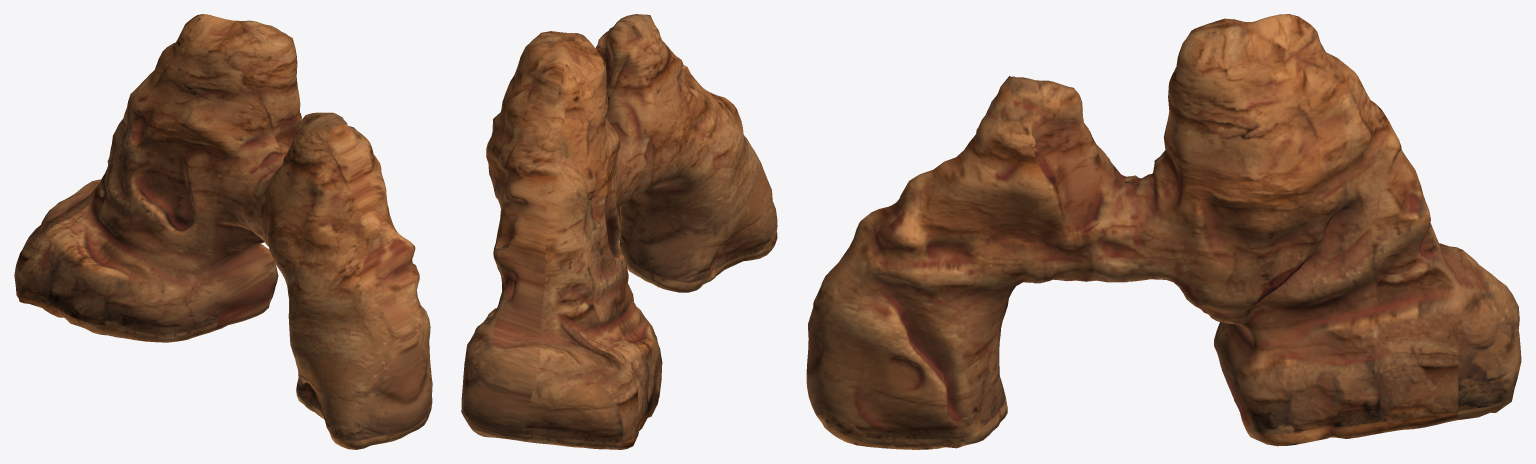
The model's file is arid_arch.obj.
3 renders of one model, left to right at view 1: azimuth 30°, elevation 25°; view 2: azimuth 150°, elevation 25°; view 3: azimuth 270°, elevation 25°, orthographic. The views are drawn at different scales.
Visible parts, largest first — view 1: Arch; view 2: Arch; view 3: Arch.
Boxes of the visible parts, bbox=[...] form: Arch: bbox=[14, 14, 432, 449]; Arch: bbox=[461, 14, 777, 449]; Arch: bbox=[806, 14, 1521, 449].
Size of the model in its own units: 395 by 548 by 892.
